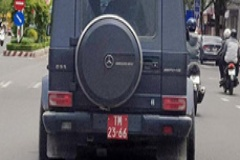plate: (107, 114, 129, 139)
